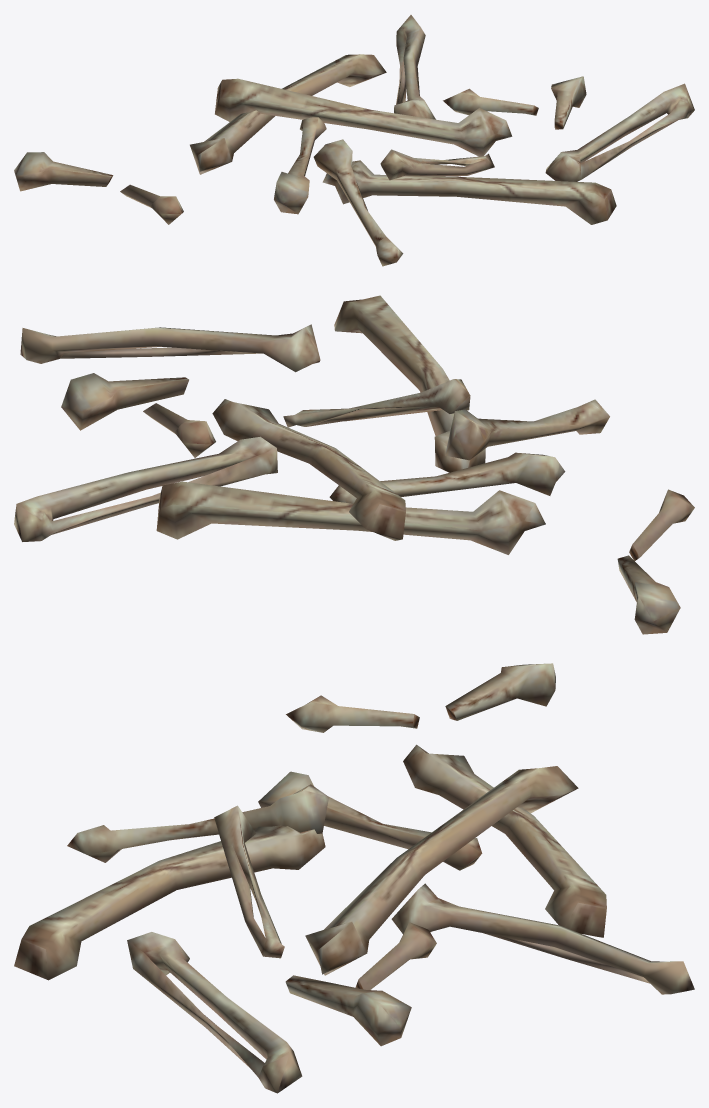
Rendered from all_item_bone_human_pile_00.glb.
3 renders of one model, top to bottom at view 1: azimuth 30°, elevation 25°; view 2: azimuth 150°, elevation 25°; view 3: azimuth 270°, elevation 25°, orthographic. The views are drawn at different scales.
Parts seen in each view (by area): view 1: all_item_bone_human_pile_00; view 2: all_item_bone_human_pile_00; view 3: all_item_bone_human_pile_00.
Part boxes in pixels (x1,y1,x2,y2): all_item_bone_human_pile_00: [14, 15, 694, 266]; all_item_bone_human_pile_00: [14, 295, 694, 634]; all_item_bone_human_pile_00: [14, 663, 694, 1093].
Bounding box in the file's own units: 0.2206 × 0.0245 × 0.1554.
1 material, 1 textured.
